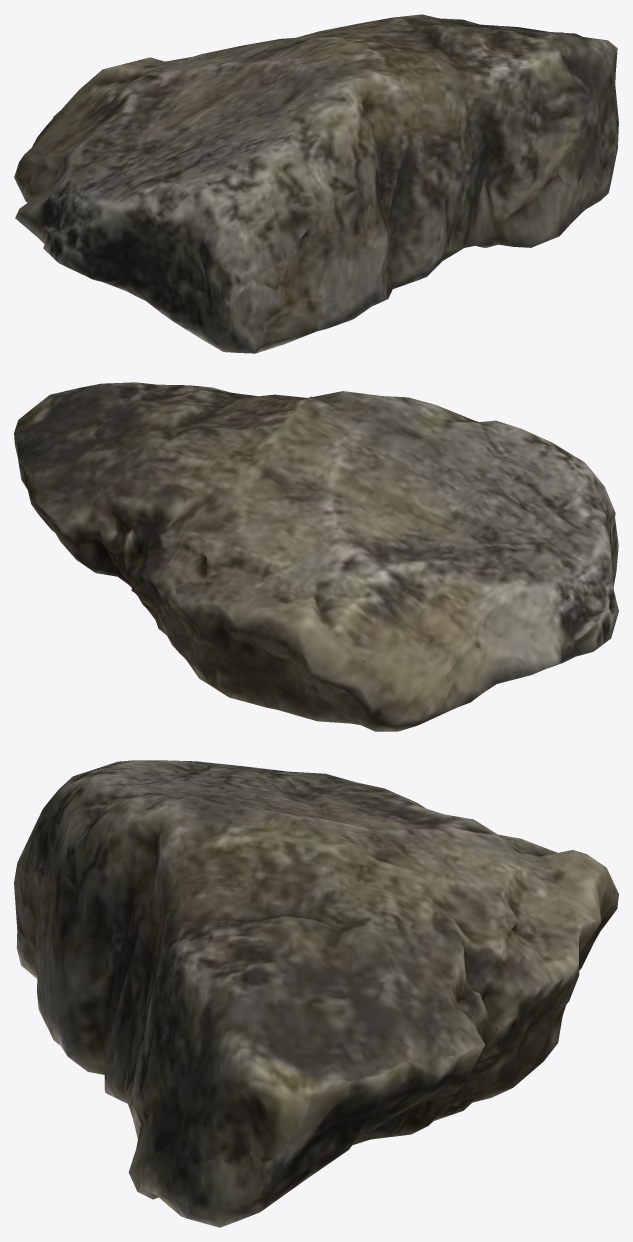
Rendered from rock-b.glb.
The picture shows the model from 3 angles, top to bottom: view 1: azimuth 30°, elevation 25°; view 2: azimuth 150°, elevation 25°; view 3: azimuth 270°, elevation 25°; orthographic projection. The views are drawn at different scales.
Visible parts, largest first — view 1: rock_moss_set_02_rock10; view 2: rock_moss_set_02_rock10; view 3: rock_moss_set_02_rock10.
Part boxes in pixels (x1,y1,x2,y2): rock_moss_set_02_rock10: [14, 14, 618, 353]; rock_moss_set_02_rock10: [14, 382, 618, 731]; rock_moss_set_02_rock10: [14, 760, 618, 1227].
Size of the model in its own units: 2.2 by 0.7705 by 1.55.
1 material, 1 textured.
